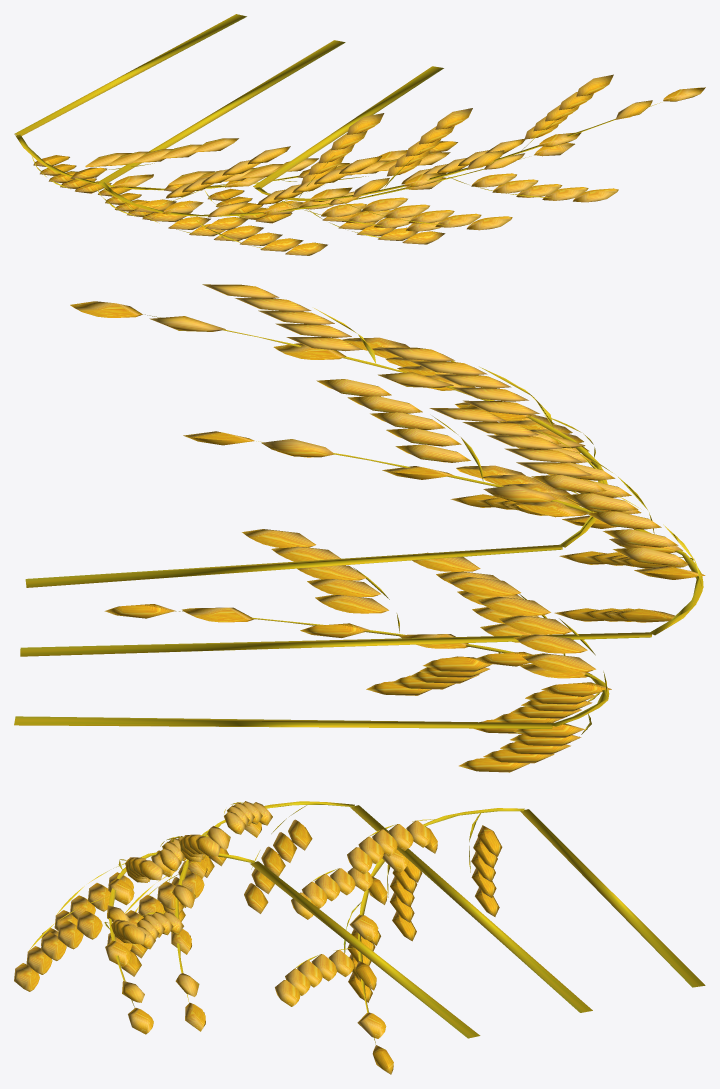
Rendered from NP_Rice_Harvest_LOD1.fbx.
The picture shows the model from 3 angles, top to bottom: view 1: azimuth 30°, elevation 25°; view 2: azimuth 150°, elevation 25°; view 3: azimuth 270°, elevation 25°; orthographic projection. The views are drawn at different scales.
Parts seen in each view (by area): view 1: NP_Rice_Harvest; view 2: NP_Rice_Harvest; view 3: NP_Rice_Harvest.
Boxes of the visible parts, <box> form: NP_Rice_Harvest: <box>14,14,705,255</box>; NP_Rice_Harvest: <box>14,284,705,772</box>; NP_Rice_Harvest: <box>14,801,705,1074</box>.
Bounding box in the file's own units: 62.57 × 18.44 × 65.18.
